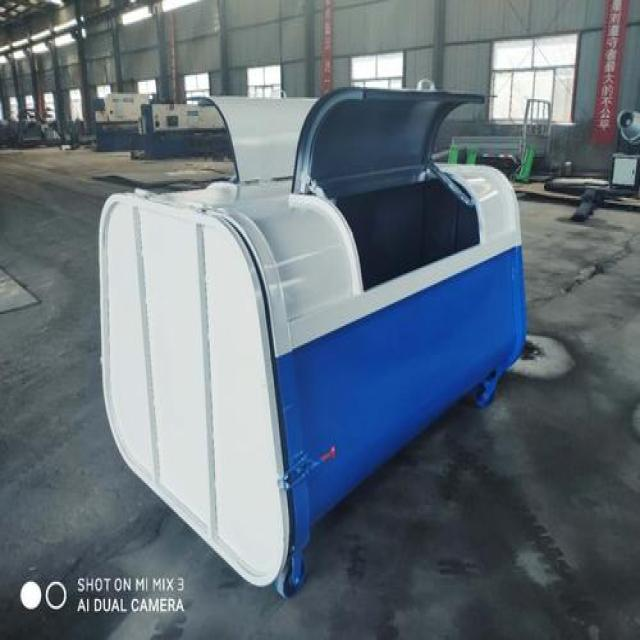garbage_bin: (97, 159, 526, 597)
